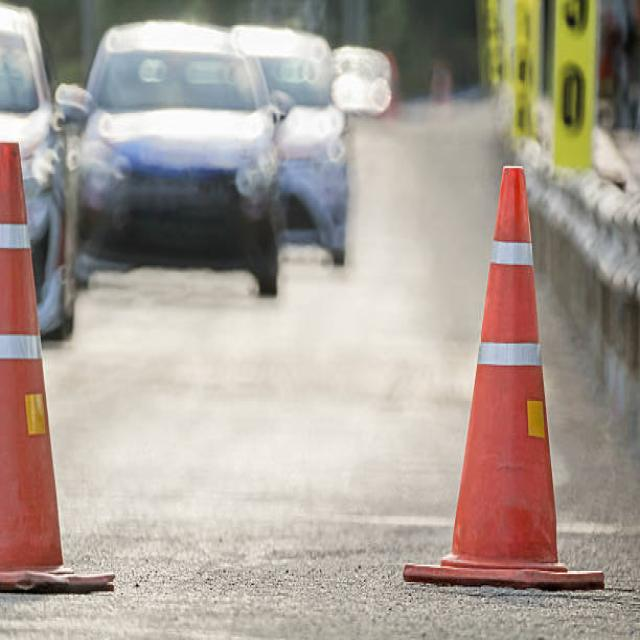Traffic Cone: (388, 131, 621, 631)
